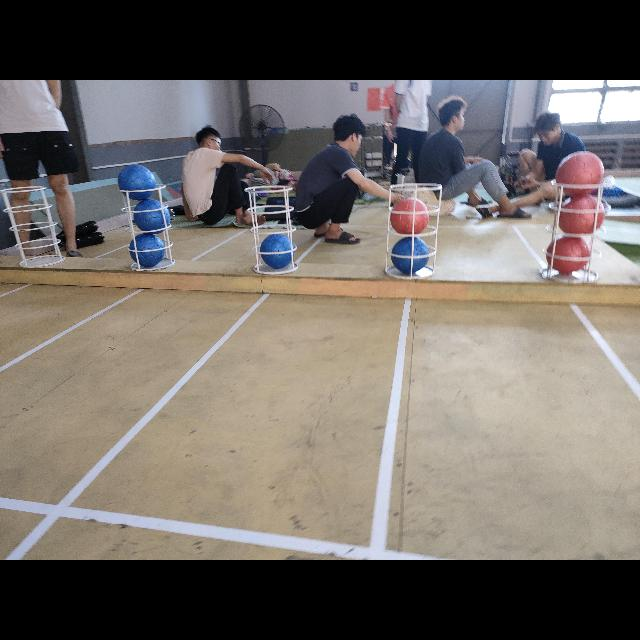B: (117, 164, 159, 202), (130, 200, 172, 233), (260, 232, 296, 270), (390, 238, 428, 274), (128, 235, 166, 269)
R: (553, 152, 603, 198), (547, 235, 591, 277), (558, 197, 604, 235), (390, 198, 430, 234)
